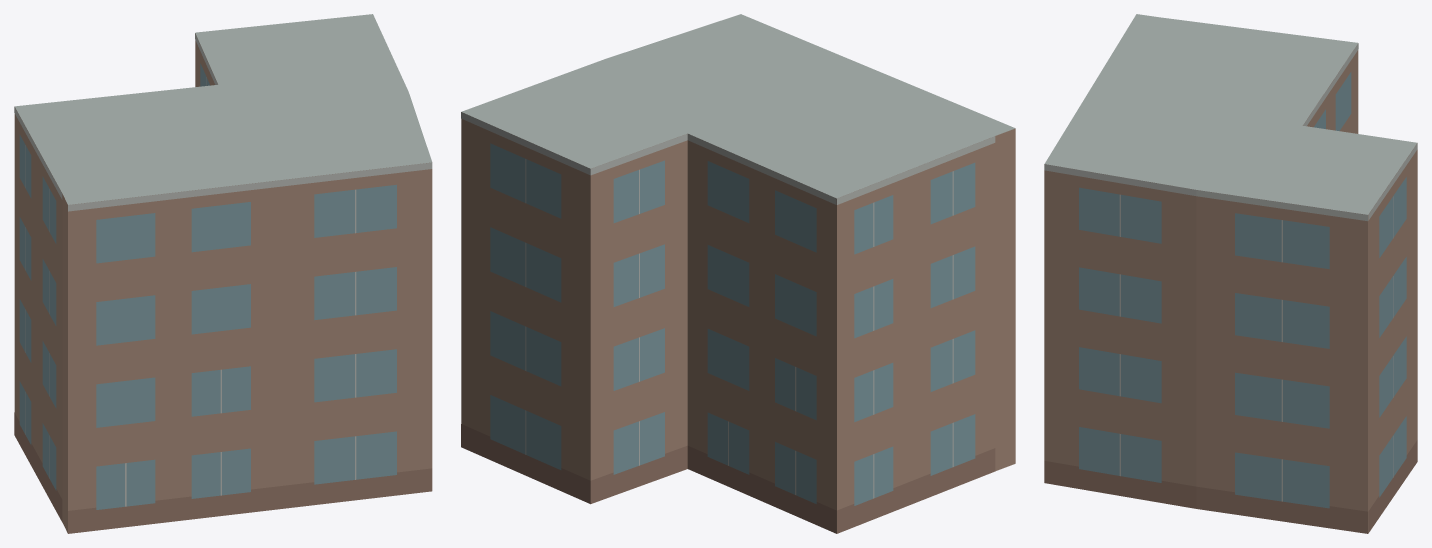
The model's file is survey-upis-32945070.glb.
3 views of the same model, side by side, from view 1: azimuth 30°, elevation 25°; view 2: azimuth 150°, elevation 25°; view 3: azimuth 270°, elevation 25° (orthographic). The views are drawn at different scales.
Parts seen in each view (by area): view 1: survey-upis-32945070.tmp; view 2: survey-upis-32945070.tmp; view 3: survey-upis-32945070.tmp.
Boxes of the visible parts, <box> form: survey-upis-32945070.tmp: <box>14,14,432,533</box>; survey-upis-32945070.tmp: <box>461,14,1015,533</box>; survey-upis-32945070.tmp: <box>1044,14,1417,533</box>.
Bounding box in the file's own units: 16.48 × 12.2 × 12.94.
